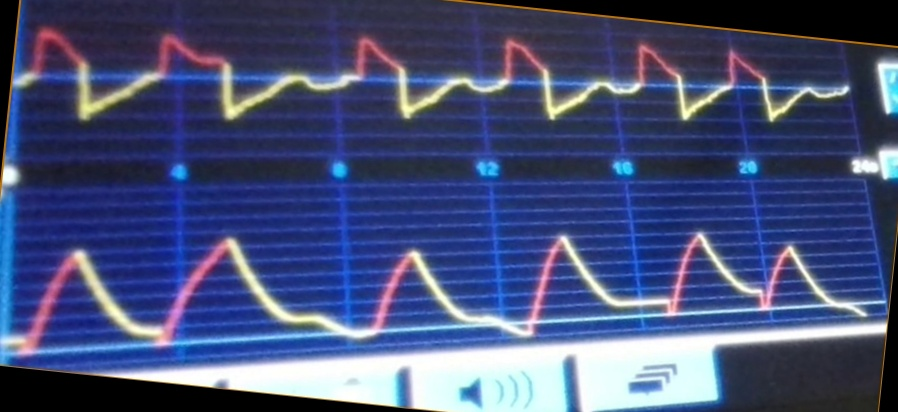Ineffective_effort Flow: (19, 24, 850, 129)
Ineffective_effort Volume: (12, 224, 870, 355)
